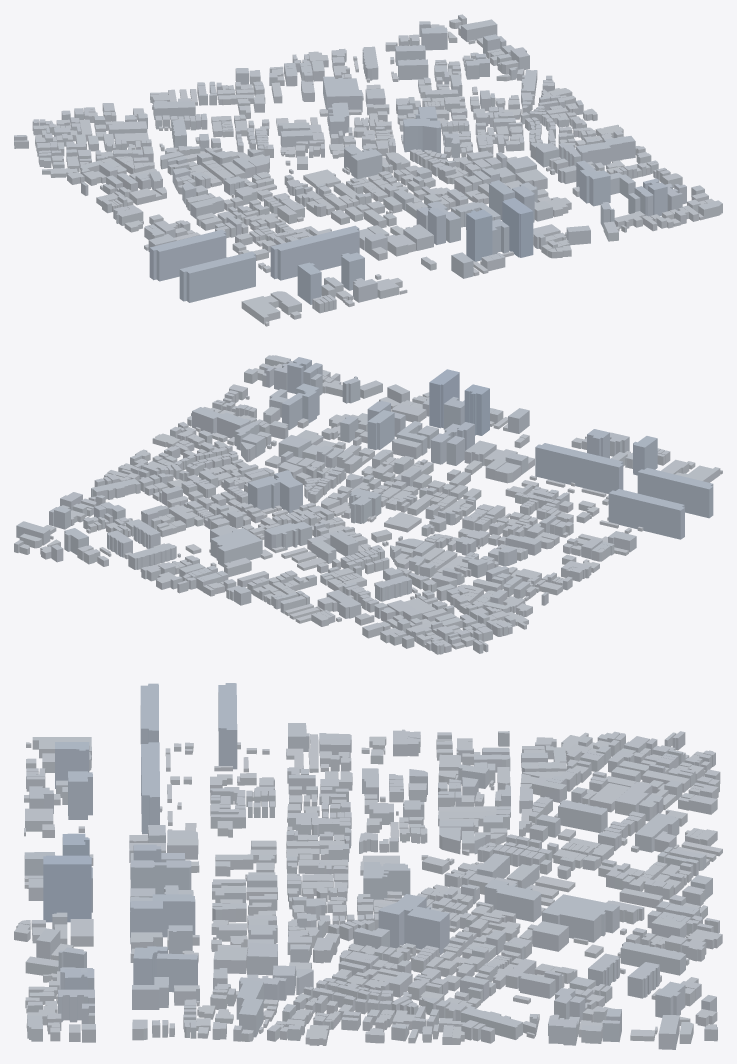
3 views of the same model, one above another, from view 1: azimuth 30°, elevation 25°; view 2: azimuth 150°, elevation 25°; view 3: azimuth 270°, elevation 25° (orthographic). The views are drawn at different scales.
Size of the model in its own units: 553 by 45.61 by 505.
